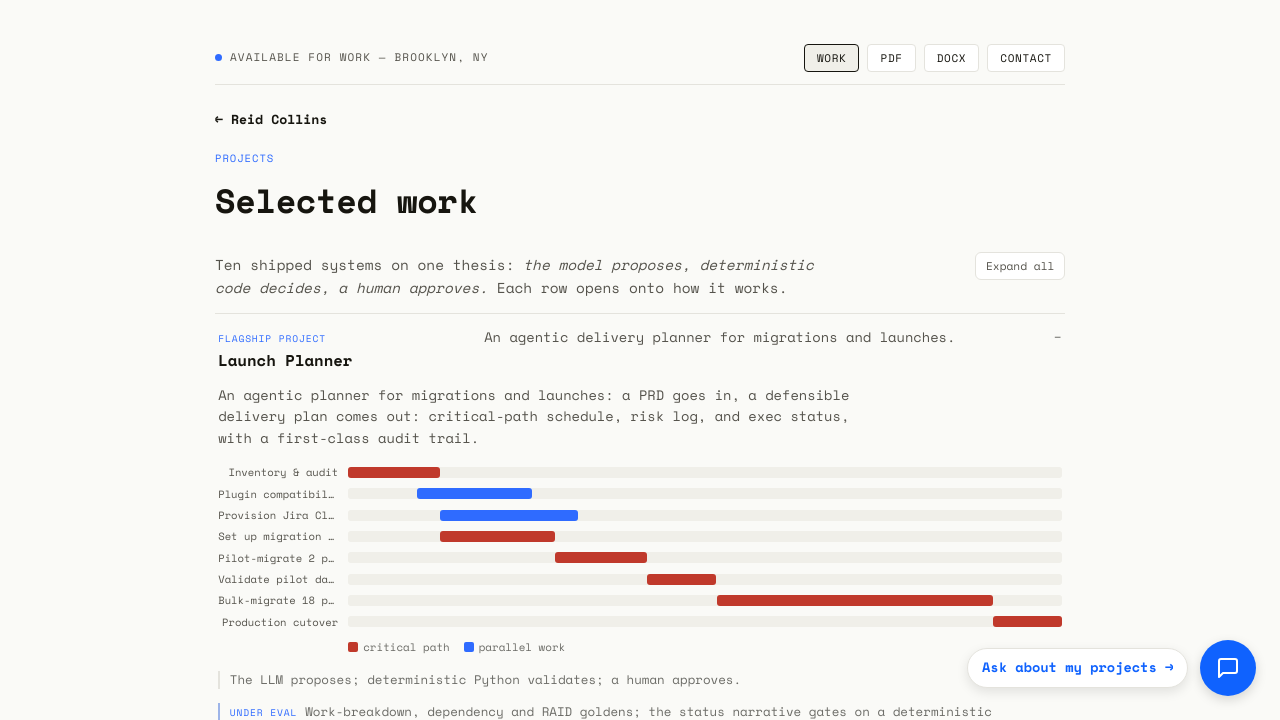
WorkPage › mounts the chatbot with projects-first starter chips
The width and height of the screenshot is (1280, 720).
Click the button named "Open chat". click: (1228, 668)
box: [1200,640,1256,696]
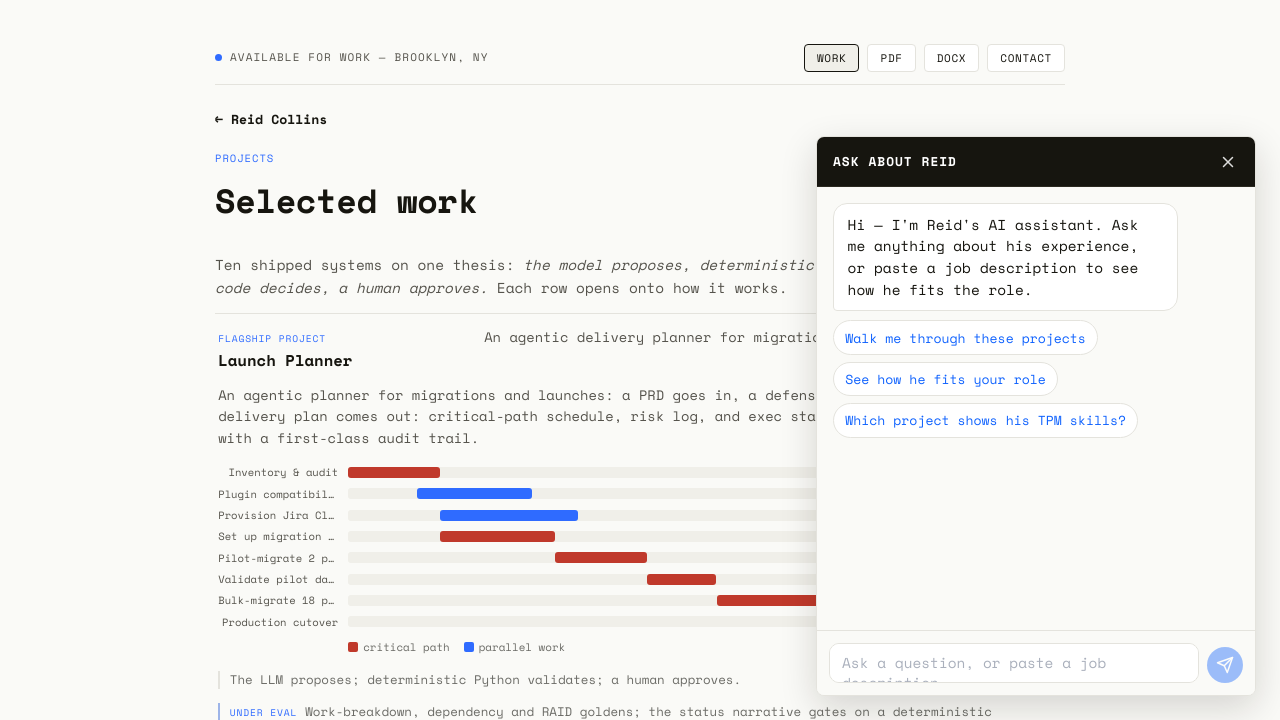
expect the dialog named "Resume chat" is shown: met, box [816,136,1256,696]
expect the button "Walk me through these projects" is shown: met, box [833,320,1098,355]
expect the button "See how he fits your role" is shown: met, box [833,362,1058,396]
